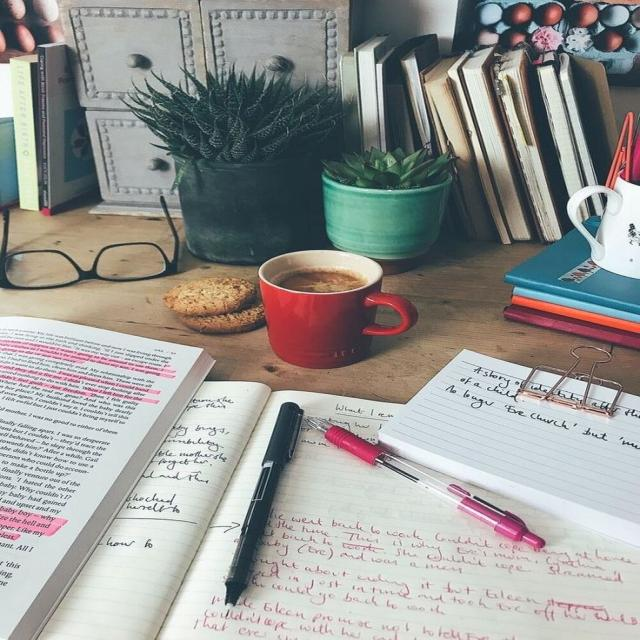book: (19, 334, 206, 640), (388, 61, 605, 156), (458, 362, 611, 484)
pen: (329, 415, 548, 555), (231, 398, 309, 595)
